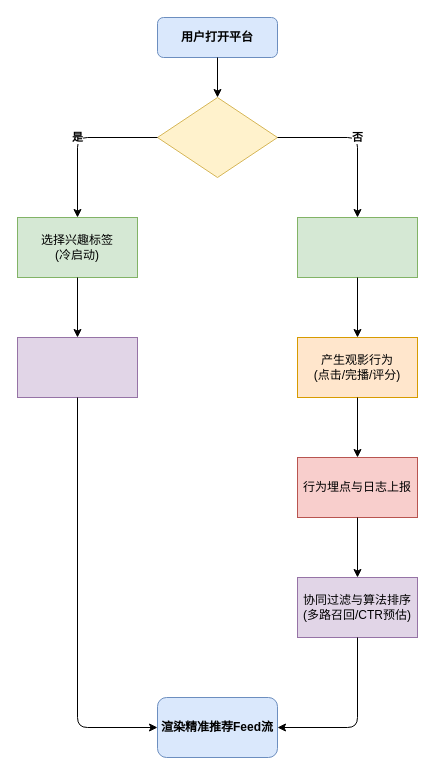
This 435x775 diagram has some shape labels left out. Here are the shapes that lost their labels. From the top down, the centre of each, then its label:
At point (217, 137): "是否为新用户？".
At point (357, 247): "直接进入首页".
At point (77, 367): "基于内容召回 (Content-Based)".
